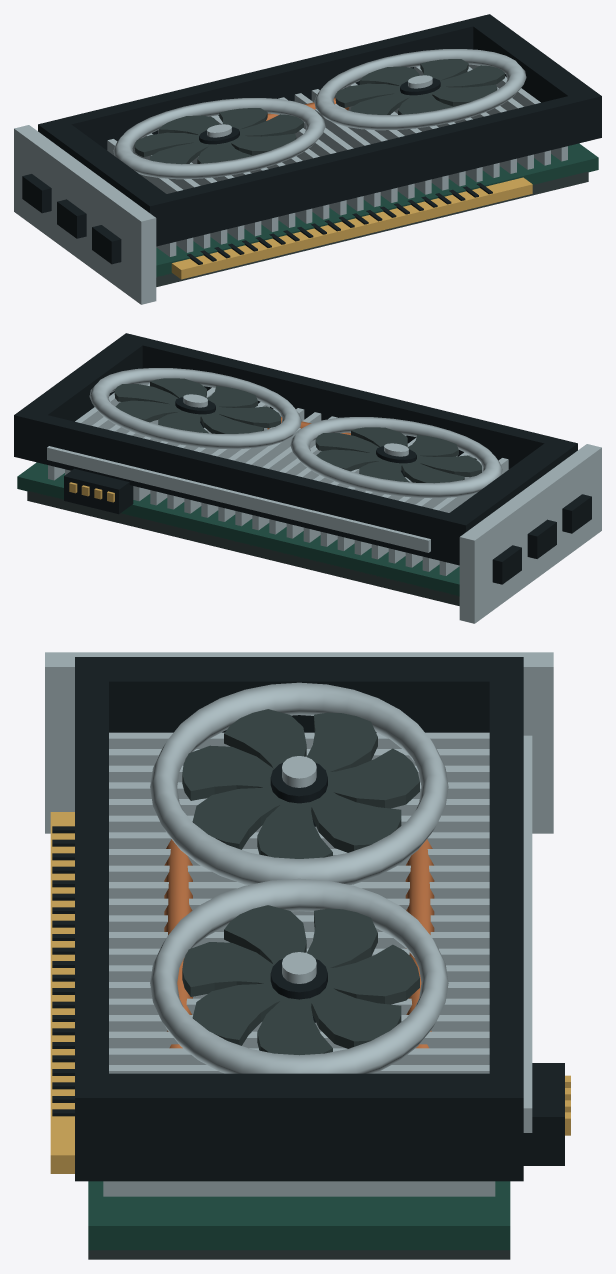
File: gpu-low-profile.glb
3 views of the same model, one above another, from view 1: azimuth 30°, elevation 25°; view 2: azimuth 150°, elevation 25°; view 3: azimuth 270°, elevation 25° (orthographic). The views are drawn at different scales.
Parts seen in each view (by area): view 1: Rubber and ABS, Brushed aluminium, Anodized graphite (×2), gpu-low-profile, Contacts, fan-rotor (×2); view 2: Rubber and ABS, Brushed aluminium, gpu-low-profile, Anodized graphite (×2), fan-rotor (×2); view 3: Brushed aluminium, Rubber and ABS, Anodized graphite (×2), gpu-low-profile, Contacts, fan-rotor (×2), Copper heat pipes.
Part boxes in pixels (x1,y1,x2,y2): Rubber and ABS: (22, 14, 601, 264); Brushed aluminium: (14, 49, 567, 304); Anodized graphite (×2): (134, 59, 504, 164); gpu-low-profile: (156, 143, 598, 286); Contacts: (171, 177, 532, 279); fan-rotor (×2): (199, 75, 440, 144); Rubber and ABS: (14, 333, 591, 584); Brushed aluminium: (47, 368, 601, 623); gpu-low-profile: (17, 462, 459, 605); Anodized graphite (×2): (114, 378, 481, 483); fan-rotor (×2): (175, 394, 416, 476); Brushed aluminium: (45, 652, 553, 1196); Rubber and ABS: (52, 657, 564, 1181); Anodized graphite (×2): (182, 709, 419, 1055); gpu-low-profile: (88, 1181, 510, 1259); Contacts: (50, 812, 570, 1173); fan-rotor (×2): (270, 756, 327, 1022); Copper heat pipes: (164, 839, 434, 1048).
Bounding box in the file's own units: 1.9 × 0.3661 × 0.9074.
